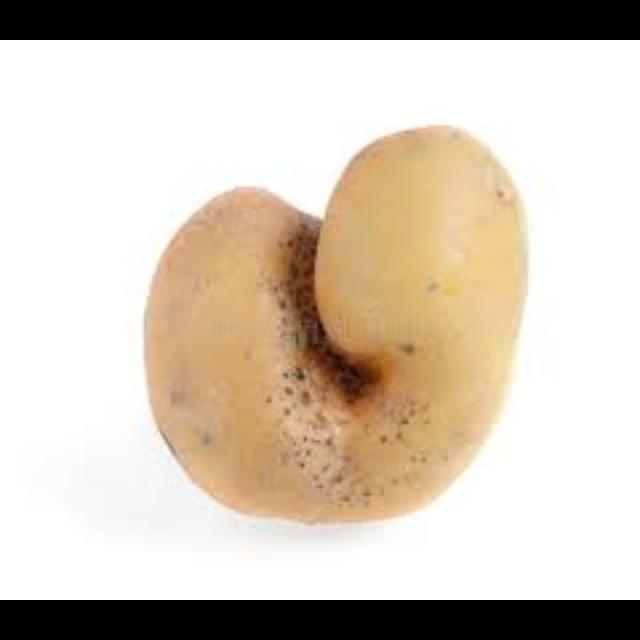Damaged potato: (138, 98, 542, 532)
